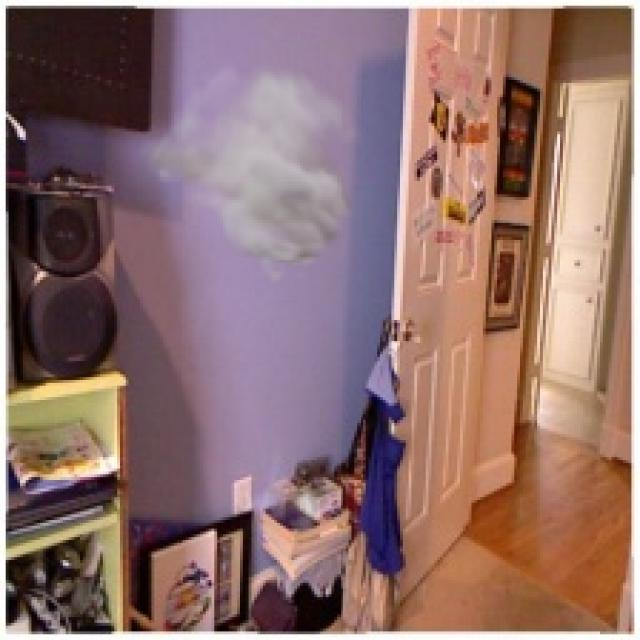smoke: (132, 57, 374, 286)
